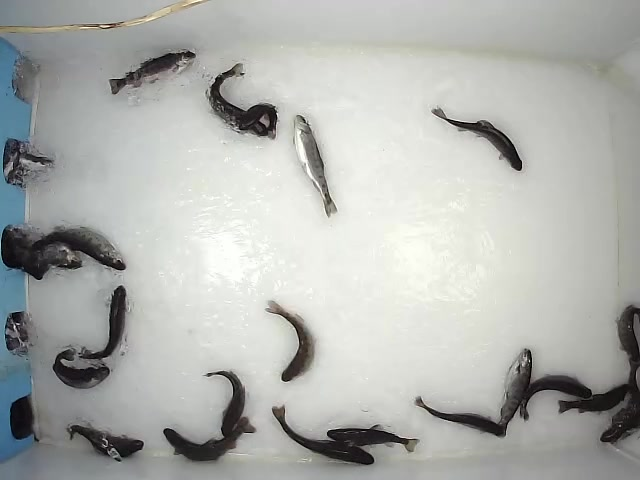fish: (429, 103, 524, 172), (271, 403, 375, 466), (204, 62, 268, 137), (293, 114, 338, 219), (160, 416, 259, 463), (263, 299, 317, 384), (31, 226, 127, 272), (413, 395, 509, 440), (109, 49, 196, 96), (518, 373, 594, 424), (79, 283, 127, 361), (494, 346, 533, 440), (64, 422, 146, 463), (201, 370, 246, 438), (326, 424, 422, 453), (51, 348, 111, 390), (557, 383, 631, 416), (239, 103, 278, 139)
